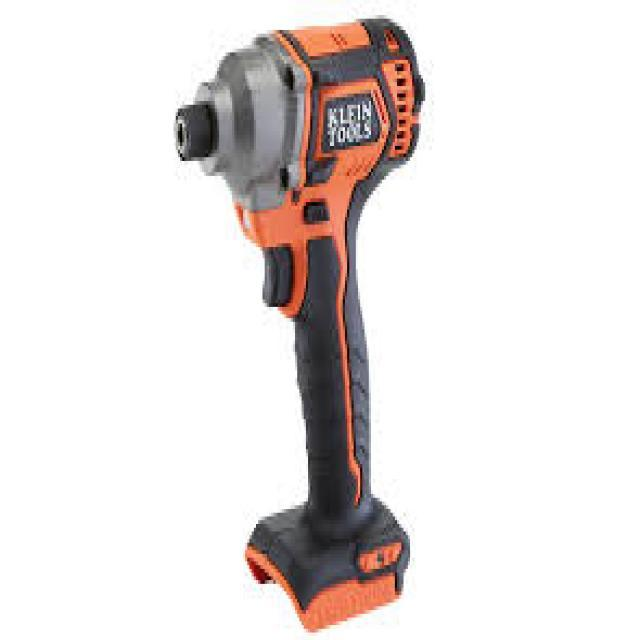drill: (166, 8, 430, 636)
